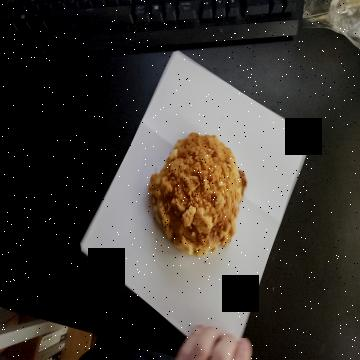soboru_bread: (145, 130, 250, 254)
